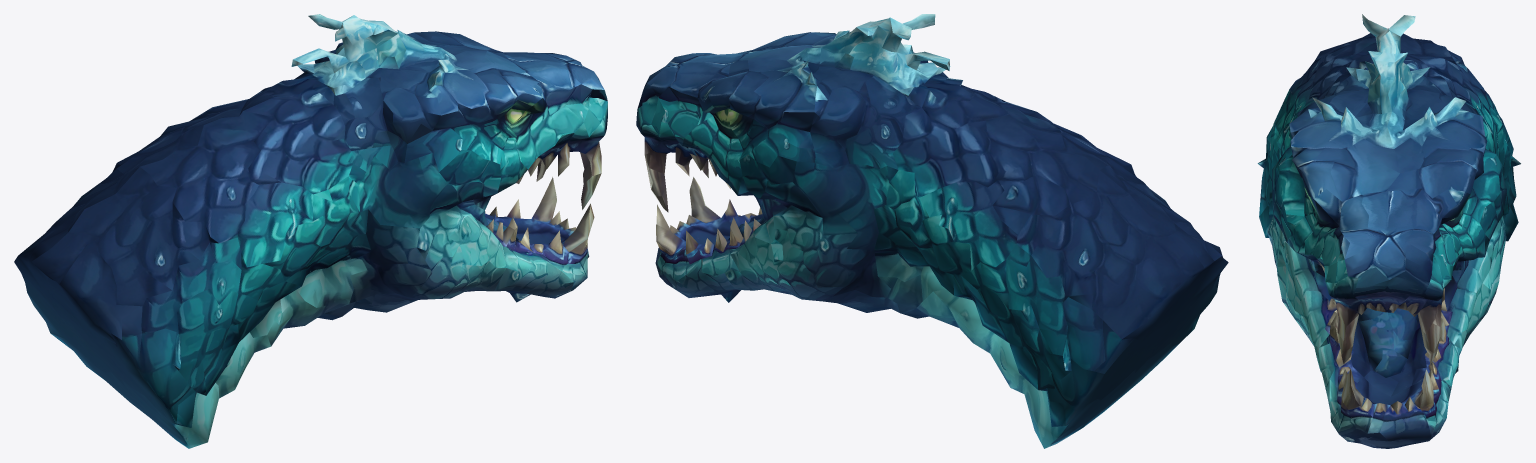
Rendered from boiuna_cabeca.glb.
The picture shows the model from 3 angles, left to right: view 1: azimuth 30°, elevation 25°; view 2: azimuth 150°, elevation 25°; view 3: azimuth 270°, elevation 25°; orthographic projection. The views are drawn at different scales.
Parts seen in each view (by area): view 1: geometry_0; view 2: geometry_0; view 3: geometry_0.
Boxes of the visible parts, x1,y1,x2,y2 form: geometry_0: [14, 14, 607, 448]; geometry_0: [636, 14, 1228, 448]; geometry_0: [1257, 14, 1520, 448].
Bounding box in the file's own units: 0.9788 × 0.626 × 0.393.
Materials: 1 (1 with a texture image).
